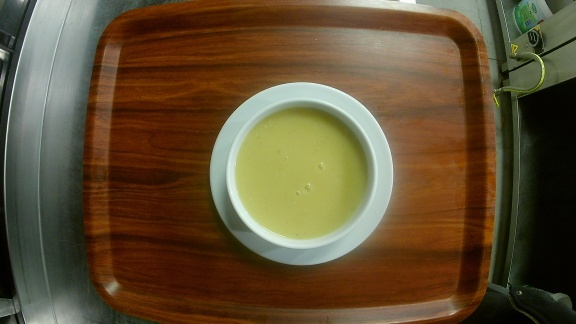mercimek: (209, 81, 394, 268)
